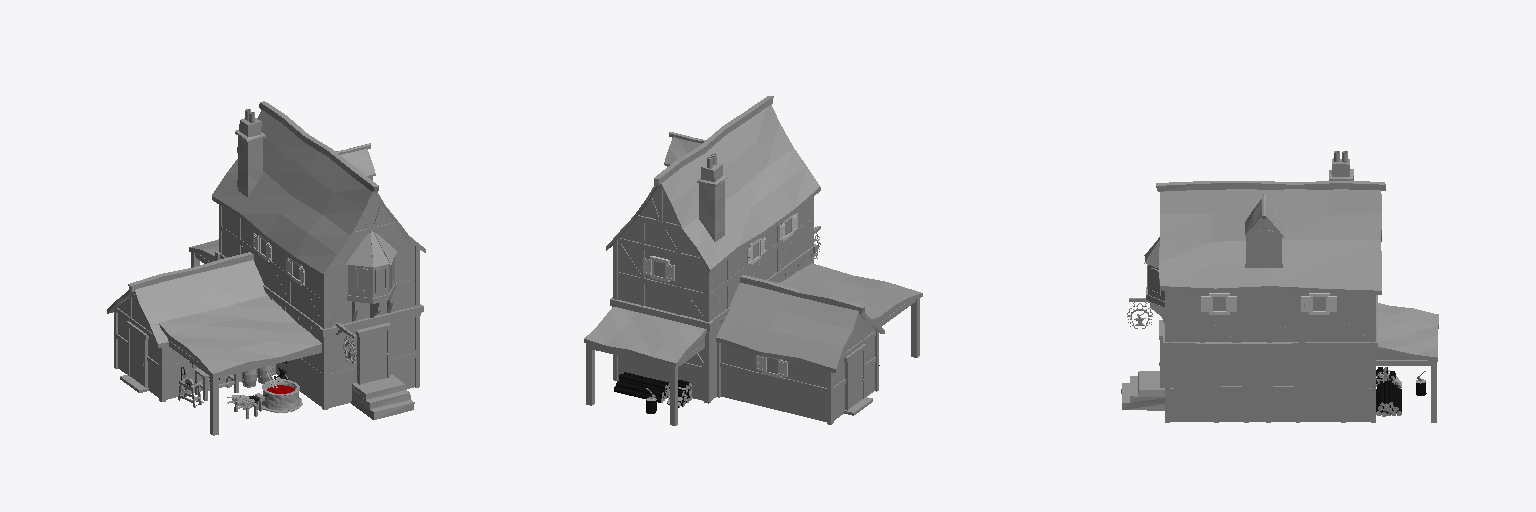
The model's file is medieval.obj.
3 views of the same model, side by side, from view 1: azimuth 30°, elevation 25°; view 2: azimuth 150°, elevation 25°; view 3: azimuth 270°, elevation 25° (orthographic).
Parts seen in each view (by area): view 1: Roof_Cube.006, WoodenBeams_Cube.408, Level1_Cube.004, Level2_Cube.005, RoofFrame_Cube.441, Steps_Cube.014, Chimney_Cube.418, DoorFront_Cube.012, Forge_Cylinder.022, WoodenBeamsExtraFront_Cube.026, WindowFrames_Cube.434, DoorSide_Cube.020 (+2 smaller); view 2: Roof_Cube.006, WoodenBeams_Cube.408, Level1_Cube.004, Level2_Cube.005, RoofFrame_Cube.441, Chimney_Cube.418, WoodenBeamsExtraBack_Cube.039, WindowFrames_Cube.434, PileOfLogs_Cylinder.002, WoodenBeamsExtraFront_Cube.026, DoorSide_Cube.020; view 3: Roof_Cube.006, Level1_Cube.004, WoodenBeams_Cube.408, Level2_Cube.005, RoofFrame_Cube.441, WindowFrames_Cube.434, Steps_Cube.014, WoodenBeamsExtraBack_Cube.039, PileOfLogs_Cylinder.002, Level3_Cube.440, Window2Level1_Cube.043, Window1Level1_Cube.035.
Part boxes in pixels (bbox=[...]): Roof_Cube.006: bbox=[135, 110, 422, 373]; WoodenBeams_Cube.408: bbox=[114, 177, 423, 409]; Level1_Cube.004: bbox=[118, 298, 414, 407]; Level2_Cube.005: bbox=[222, 193, 414, 326]; RoofFrame_Cube.441: bbox=[107, 101, 425, 377]; Steps_Cube.014: bbox=[351, 374, 414, 419]; Chimney_Cube.418: bbox=[235, 118, 265, 196]; DoorFront_Cube.012: bbox=[362, 330, 386, 383]; Forge_Cylinder.022: bbox=[262, 379, 302, 412]; WoodenBeamsExtraFront_Cube.026: bbox=[167, 337, 321, 435]; WindowFrames_Cube.434: bbox=[253, 233, 394, 292]; DoorSide_Cube.020: bbox=[130, 329, 143, 385]; Roof_Cube.006: bbox=[584, 104, 920, 368]; WoodenBeams_Cube.408: bbox=[610, 166, 878, 424]; Level1_Cube.004: bbox=[618, 257, 874, 421]; Level2_Cube.005: bbox=[618, 186, 811, 319]; RoofFrame_Cube.441: bbox=[584, 96, 922, 372]; Chimney_Cube.418: bbox=[697, 162, 727, 241]; WoodenBeamsExtraBack_Cube.039: bbox=[586, 334, 705, 425]; WindowFrames_Cube.434: bbox=[643, 213, 797, 378]; PileOfLogs_Cylinder.002: bbox=[614, 372, 669, 402]; WoodenBeamsExtraFront_Cube.026: bbox=[876, 298, 919, 357]; DoorSide_Cube.020: bbox=[849, 351, 862, 408]; Roof_Cube.006: bbox=[1145, 189, 1438, 357]; Level1_Cube.004: bbox=[1170, 352, 1370, 421]; WoodenBeams_Cube.408: bbox=[1144, 219, 1377, 422]; Level2_Cube.005: bbox=[1170, 291, 1370, 341]; RoofFrame_Cube.441: bbox=[1156, 181, 1438, 361]; WindowFrames_Cube.434: bbox=[1147, 230, 1336, 387]; Steps_Cube.014: bbox=[1121, 371, 1164, 410]; WoodenBeamsExtraBack_Cube.039: bbox=[1376, 351, 1436, 422]; PileOfLogs_Cylinder.002: bbox=[1376, 380, 1401, 416]; Level3_Cube.440: bbox=[1249, 219, 1279, 263]; Window2Level1_Cube.043: bbox=[1273, 353, 1293, 385]; Window1Level1_Cube.035: bbox=[1221, 353, 1241, 385].
Bounding box in the file's own units: 9.83 × 9.81 × 12.14.